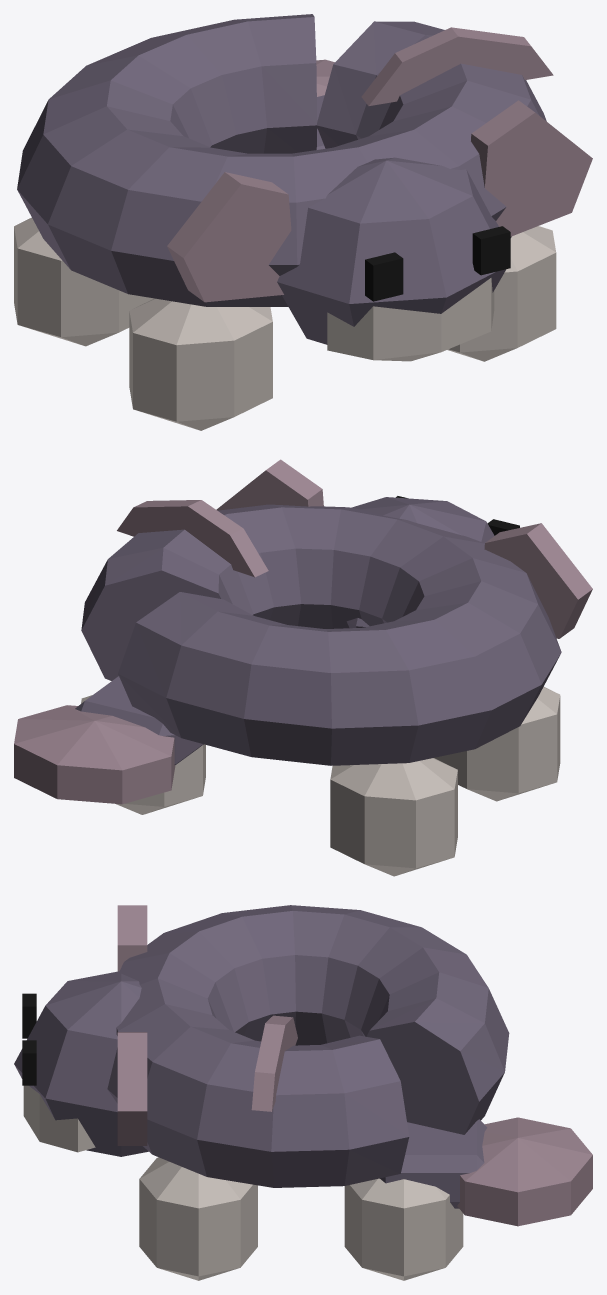
File: murnub.glb
The picture shows the model from 3 angles, top to bottom: view 1: azimuth 30°, elevation 25°; view 2: azimuth 150°, elevation 25°; view 3: azimuth 270°, elevation 25°; orthographic projection. The views are drawn at different scales.
Visible parts, largest first — view 1: Murnub; view 2: Murnub; view 3: Murnub.
Part boxes in pixels (left/top/right/bottom): Murnub: left=14, top=14, right=592, bottom=430; Murnub: left=14, top=459, right=592, bottom=876; Murnub: left=14, top=905, right=592, bottom=1280.
Size of the model in its own units: 0.52 by 0.3 by 0.6.
